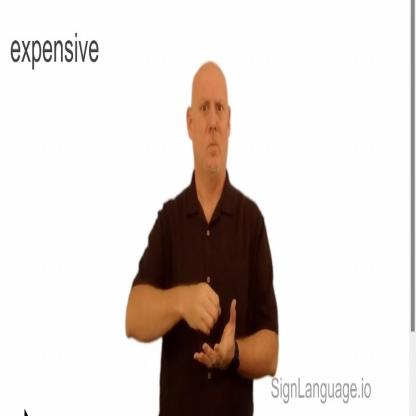Expensive: (129, 57, 280, 409)
